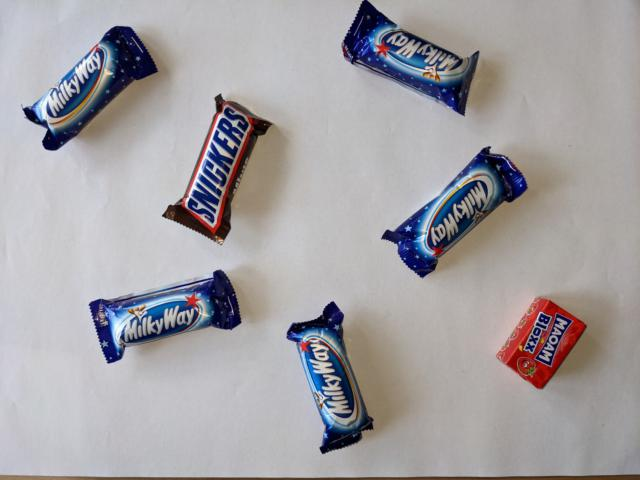MAOAM: (493, 294, 589, 393)
MilkyWay: (378, 144, 530, 281), (19, 24, 160, 154), (339, 1, 482, 119), (87, 269, 243, 365), (285, 300, 377, 457)
Snickers: (159, 91, 276, 247)
